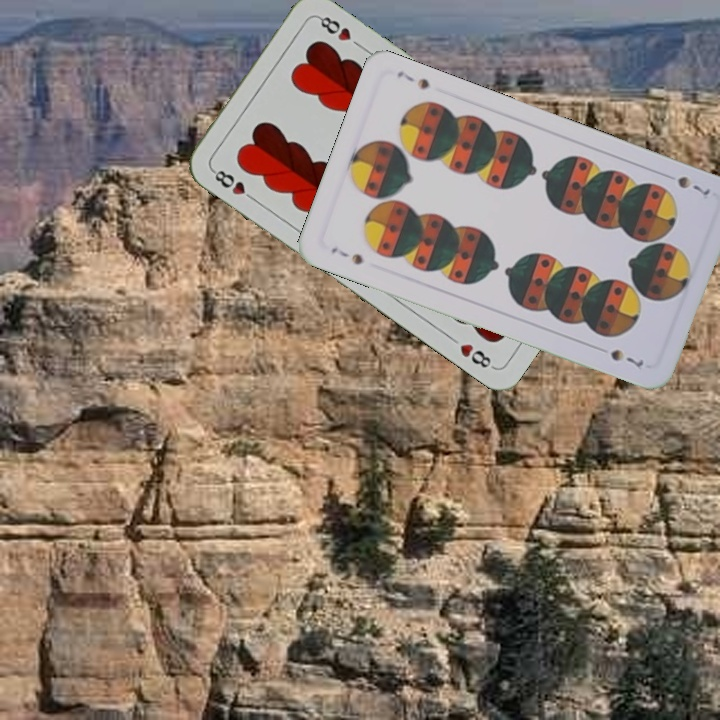H8: (208, 165, 259, 204)
S7: (673, 172, 713, 198), (327, 243, 366, 268)
